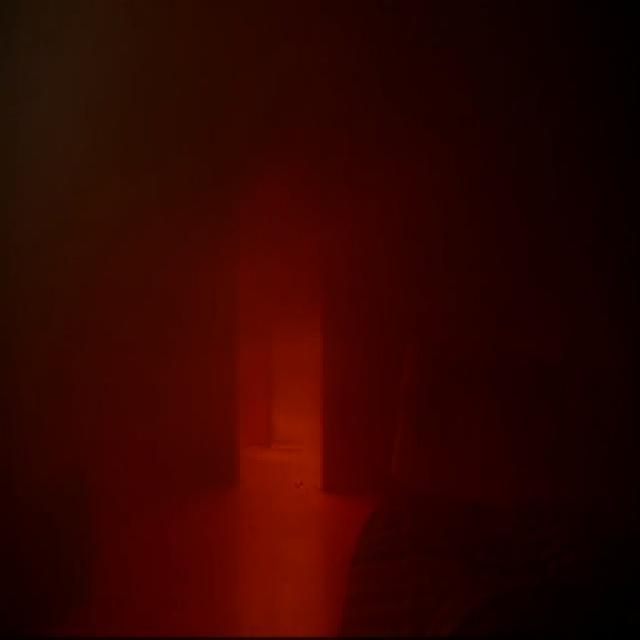Smoke: (59, 11, 512, 306)
